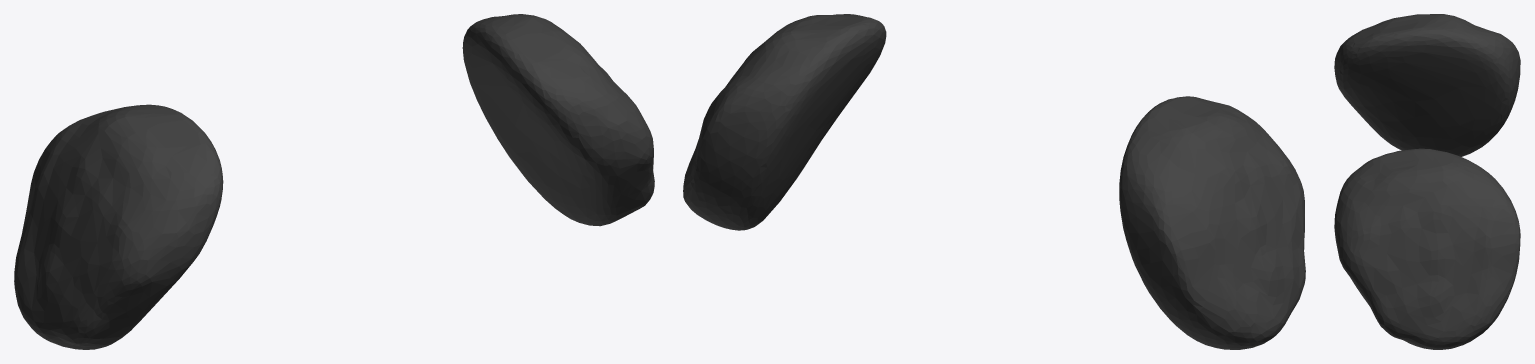
Rendered from mandibular_gland.glb.
3 renders of one model, left to right at view 1: azimuth 30°, elevation 25°; view 2: azimuth 150°, elevation 25°; view 3: azimuth 270°, elevation 25°, orthographic. The views are drawn at different scales.
Parts seen in each view (by area): view 1: mandibular_gland; view 2: mandibular_gland; view 3: mandibular_gland.
Boxes of the visible parts, bbox=[...] form: mandibular_gland: bbox=[14, 14, 654, 349]; mandibular_gland: bbox=[683, 14, 1305, 349]; mandibular_gland: bbox=[1334, 14, 1520, 349].
Bounding box in the file's own units: 0.00212 × 0.00073 × 0.000757.
Materials: 1 (1 with a texture image).
